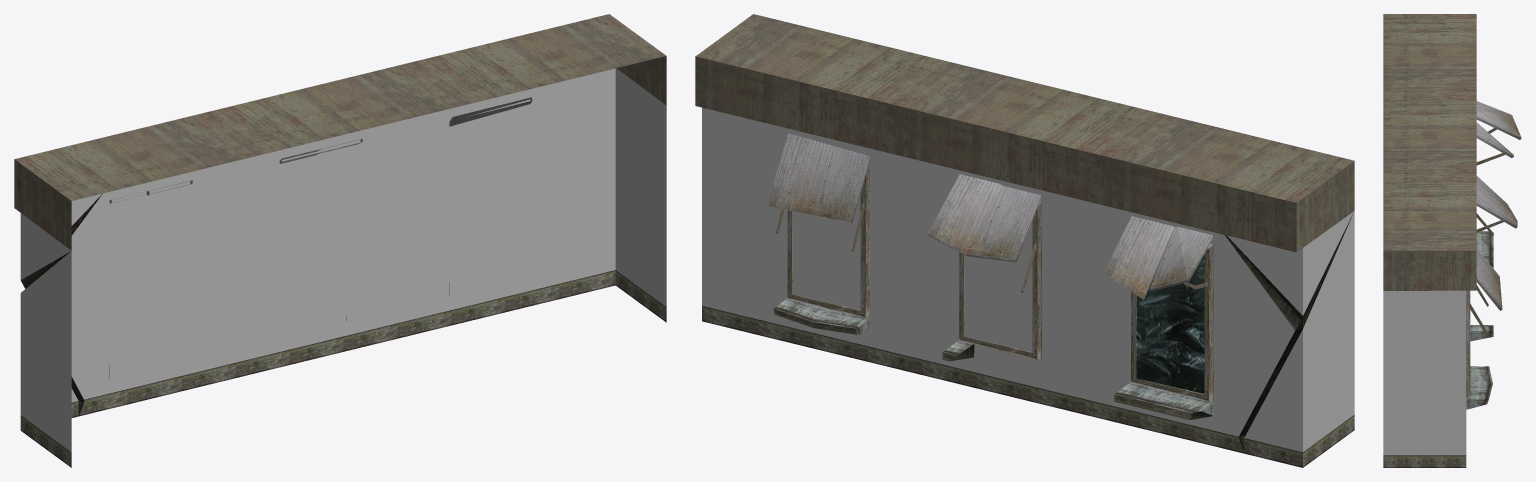
The model's file is Store_front_5_C.fbx.
The picture shows the model from 3 angles, left to right: view 1: azimuth 30°, elevation 25°; view 2: azimuth 150°, elevation 25°; view 3: azimuth 270°, elevation 25°; orthographic projection. The views are drawn at different scales.
Visible parts, largest first — view 1: Store_front_5_C; view 2: Store_front_5_C; view 3: Store_front_5_C.
Boxes of the visible parts, bbox=[...] form: Store_front_5_C: bbox=[14, 14, 666, 467]; Store_front_5_C: bbox=[695, 14, 1354, 467]; Store_front_5_C: bbox=[1383, 14, 1521, 467].
Size of the model in its own units: 700 by 300 by 173.
